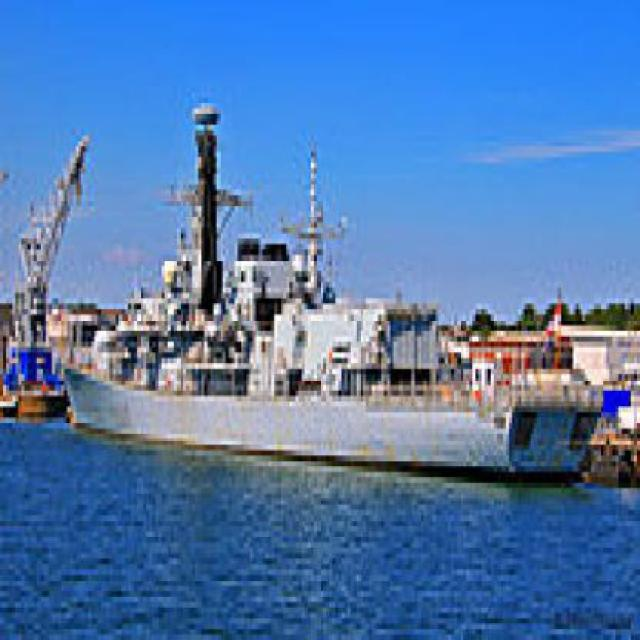warship2: (56, 99, 604, 511)
